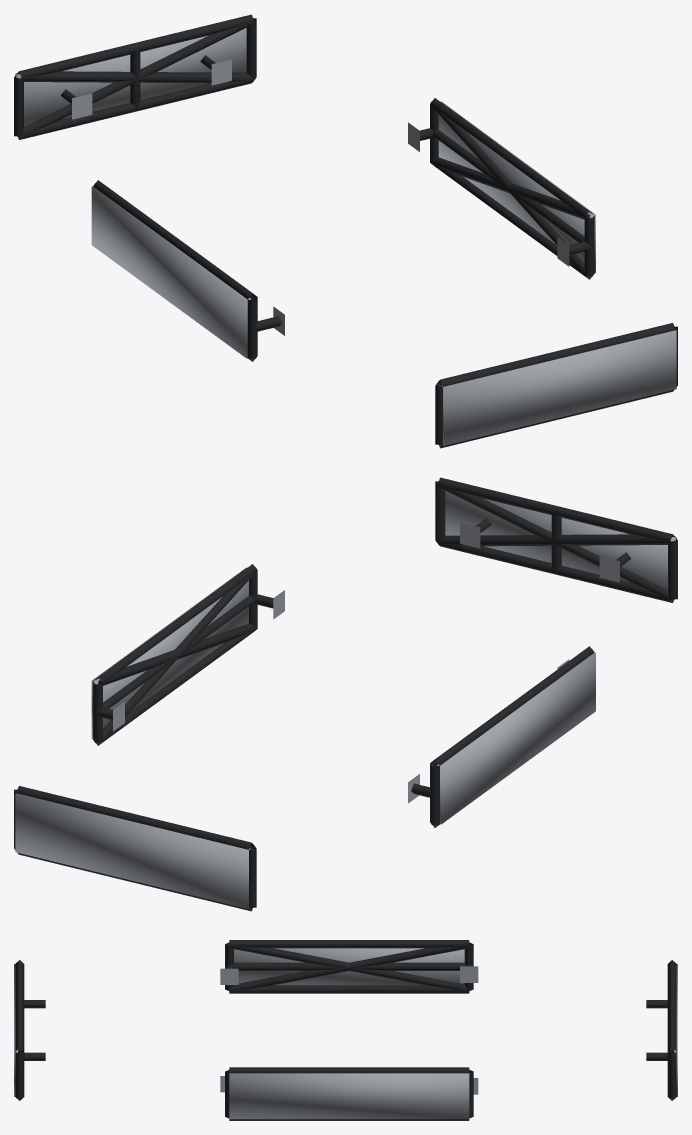
The model's file is hayase_gota_protecao.glb.
3 renders of one model, top to bottom at view 1: azimuth 30°, elevation 25°; view 2: azimuth 150°, elevation 25°; view 3: azimuth 270°, elevation 25°, orthographic. The views are drawn at different scales.
Parts seen in each view (by area): view 1: Protection_front_Level3_Details, Protection_left_Level3_Details, Protection_rear_Level1_Details, Protection_rear_Level3_Details, Protection_right_Level1_Details, Protection_rear_Level2_Details, Protection_right_Level2_Details, Protection_right_Level3_Details, Protection_front_Level1_Details, Protection_left_Level1_Details; view 2: Protection_rear_Level3_Details, Protection_left_Level3_Details, Protection_front_Level1_Details, Protection_front_Level3_Details, Protection_right_Level1_Details, Protection_front_Level2_Details, Protection_right_Level2_Details, Protection_right_Level3_Details, Protection_rear_Level1_Details, Protection_left_Level1_Details; view 3: Protection_right_Level3_Details, Protection_left_Level2_Details, Protection_left_Level1_Details, Protection_left_Level3_Details, Protection_right_Level1_Details, Protection_rear_Level1_Details, Protection_front_Level1_Details.
Boxes of the visible parts, box(x1,y1,x2,y2) form: Protection_front_Level3_Details: box(441, 330, 676, 445); Protection_left_Level3_Details: box(91, 186, 250, 358); Protection_rear_Level1_Details: box(14, 14, 256, 139); Protection_rear_Level3_Details: box(15, 28, 246, 126); Protection_right_Level1_Details: box(408, 98, 594, 279); Protection_rear_Level2_Details: box(16, 22, 254, 138); Protection_right_Level2_Details: box(430, 104, 593, 278); Protection_right_Level3_Details: box(438, 101, 595, 273); Protection_front_Level1_Details: box(435, 323, 677, 448); Protection_left_Level1_Details: box(93, 180, 284, 361); Protection_rear_Level3_Details: box(15, 793, 250, 908); Protection_left_Level3_Details: box(436, 652, 595, 824); Protection_front_Level1_Details: box(435, 477, 677, 602); Protection_front_Level3_Details: box(445, 491, 676, 589); Protection_right_Level1_Details: box(93, 564, 284, 745); Protection_front_Level2_Details: box(437, 485, 675, 601); Protection_right_Level2_Details: box(94, 571, 257, 745); Protection_right_Level3_Details: box(91, 567, 248, 739); Protection_rear_Level1_Details: box(14, 786, 256, 911); Protection_left_Level1_Details: box(408, 646, 594, 827); Protection_right_Level3_Details: box(229, 1073, 469, 1119); Protection_left_Level2_Details: box(229, 944, 469, 991); Protection_left_Level1_Details: box(220, 940, 478, 993); Protection_left_Level3_Details: box(234, 948, 464, 985); Protection_right_Level1_Details: box(220, 1067, 478, 1120); Protection_rear_Level1_Details: box(646, 960, 676, 1100); Protection_front_Level1_Details: box(15, 960, 45, 1100).
Bounding box in the file's own units: 1.88 × 0.354 × 3.99.
1 material, 1 textured.
